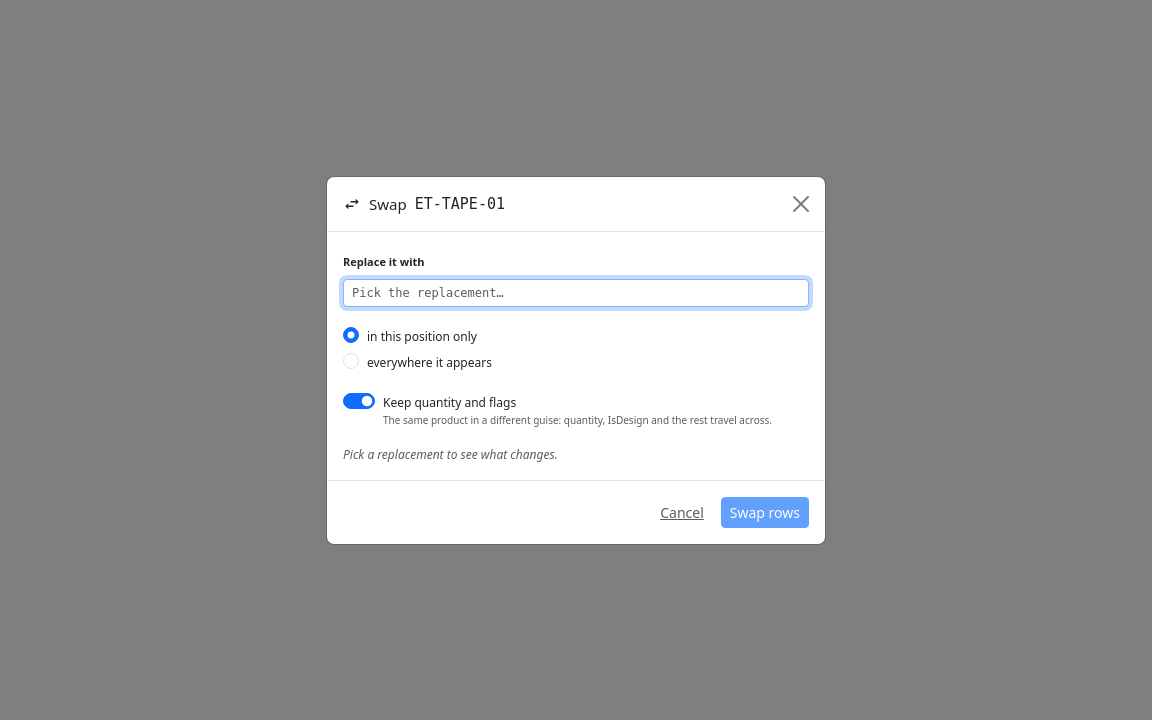
Scenario: scoped to one position › widening the scope reaches D07 as well
This screenshot has width=1152, height=720.
In the field with placeholder "Pick the replacement…": (576, 292) [343, 278, 809, 306], type "ET-TAPE-09"
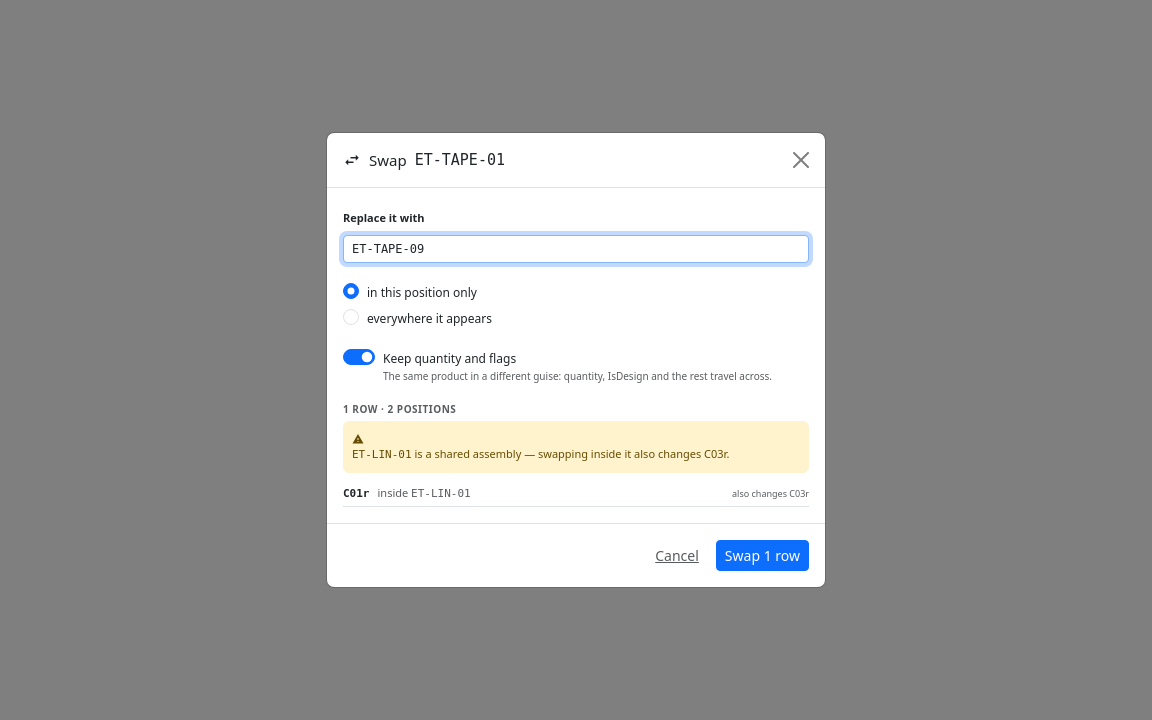
Click the radio button labelled "everywhere it appears": (351, 317) [343, 309, 359, 325]
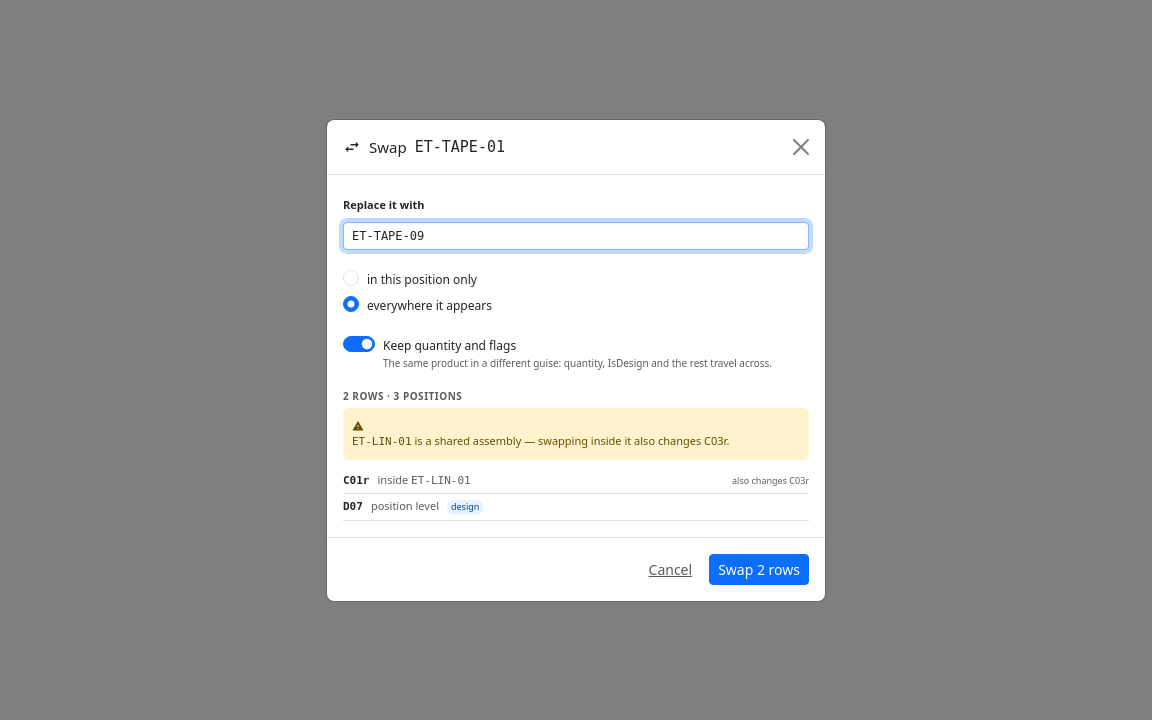
Check: the text "2 rows · 3 positions" is shown, box [343, 388, 462, 402]
